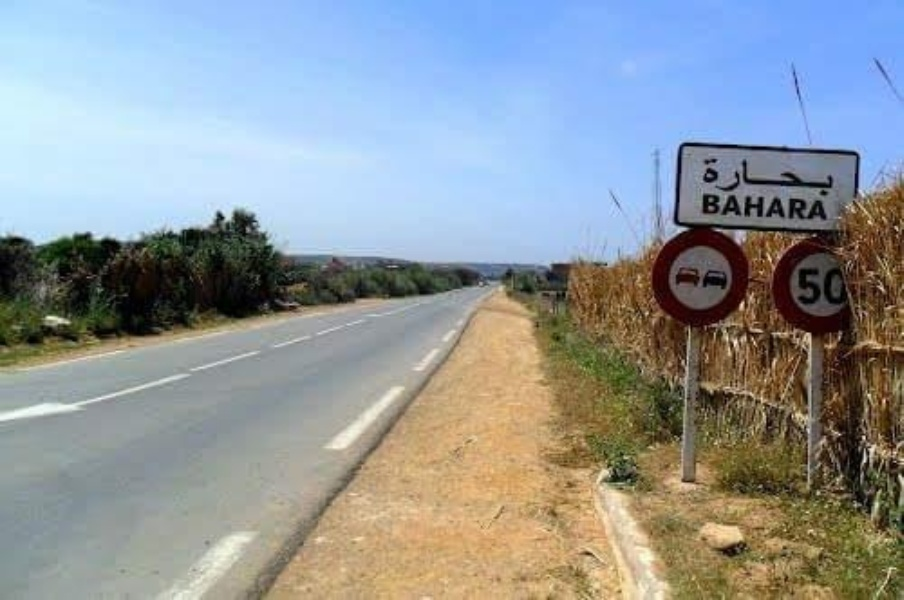text: (801, 266, 816, 306), (817, 266, 832, 306), (833, 266, 848, 306), (705, 156, 720, 196), (721, 156, 736, 196), (737, 156, 752, 196), (753, 156, 768, 196), (769, 156, 784, 196), (785, 156, 800, 196), (801, 156, 816, 196), (817, 156, 832, 196), (705, 194, 720, 223), (721, 194, 736, 223), (737, 194, 752, 223), (753, 194, 768, 223), (769, 194, 784, 223), (785, 194, 800, 223), (801, 194, 816, 223), (817, 194, 829, 223), (849, 266, 852, 306), (833, 156, 836, 196), (798, 266, 800, 306), (702, 194, 704, 223)
